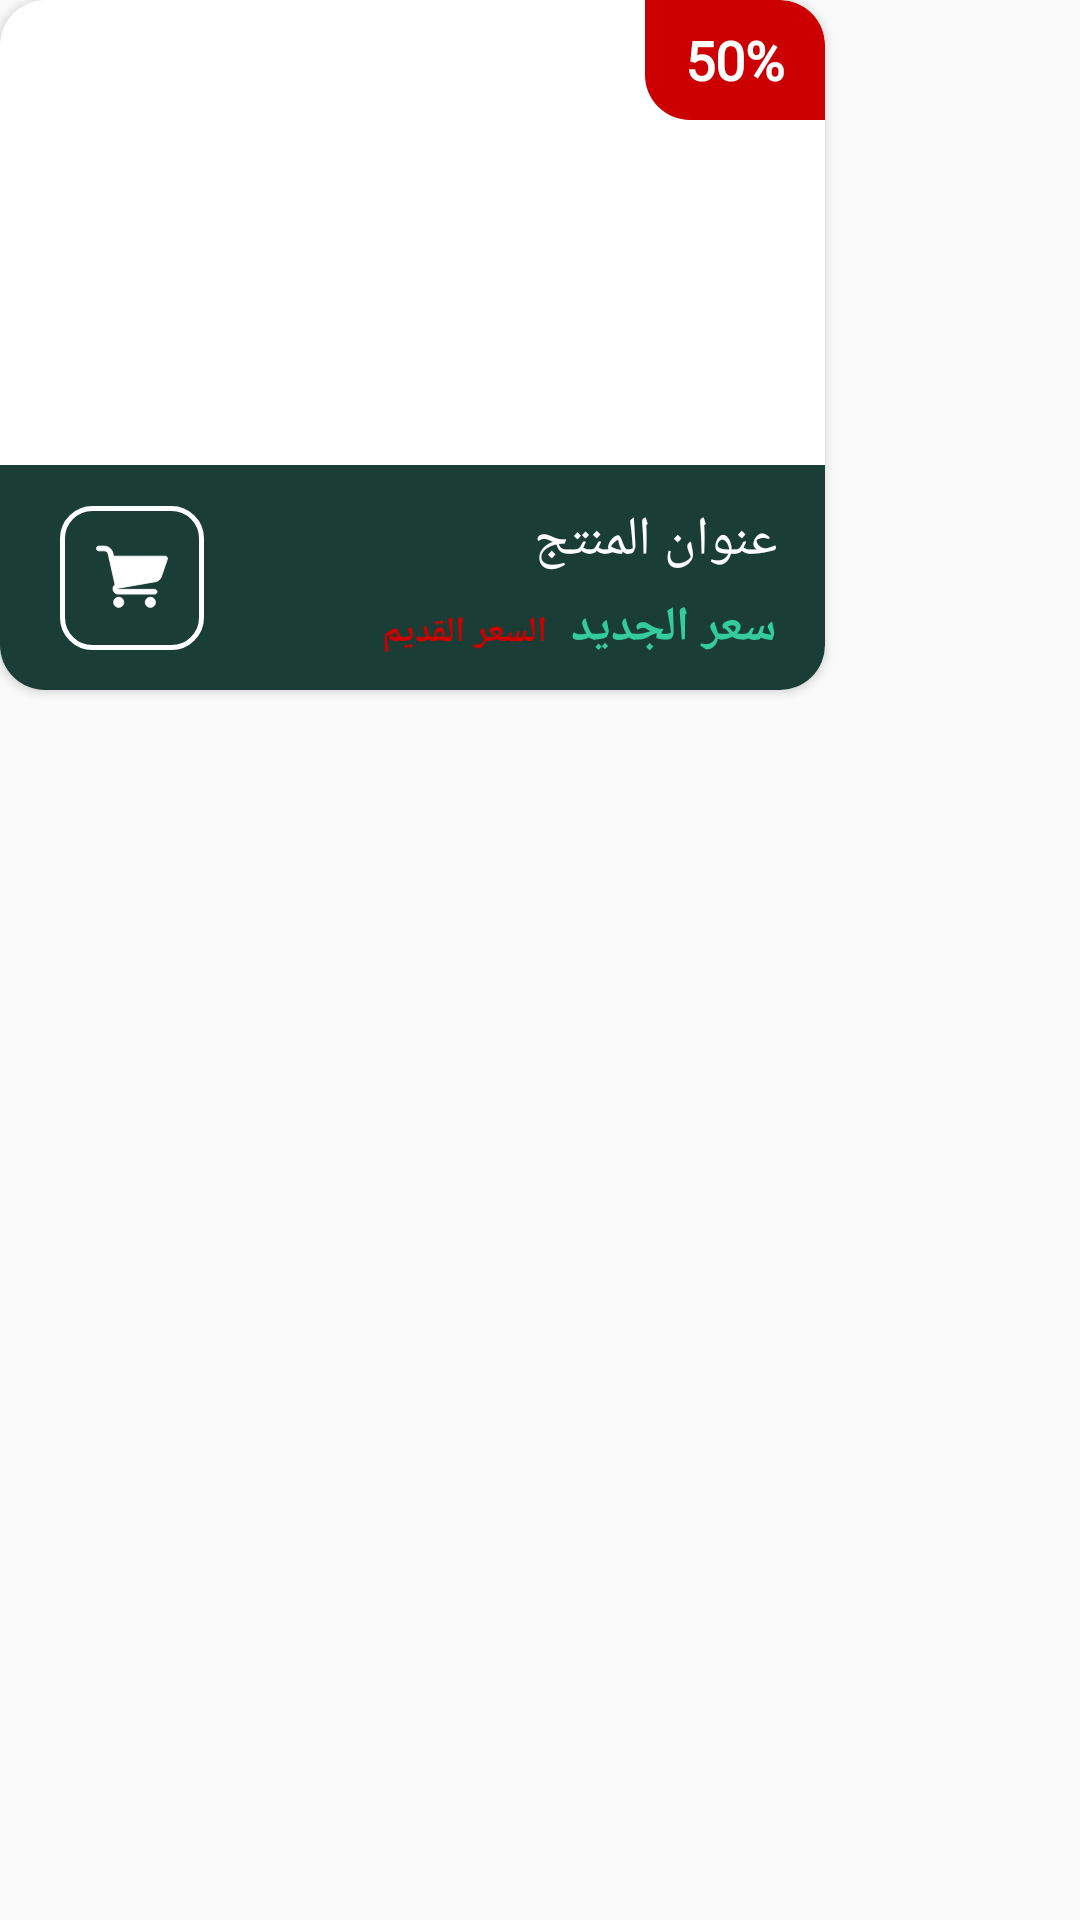

Locate icon controls on the screen. Image size 1080w x 1920h, boxes as (x1, y1, x2, y2).
shopping cart: (60, 506, 204, 650)
